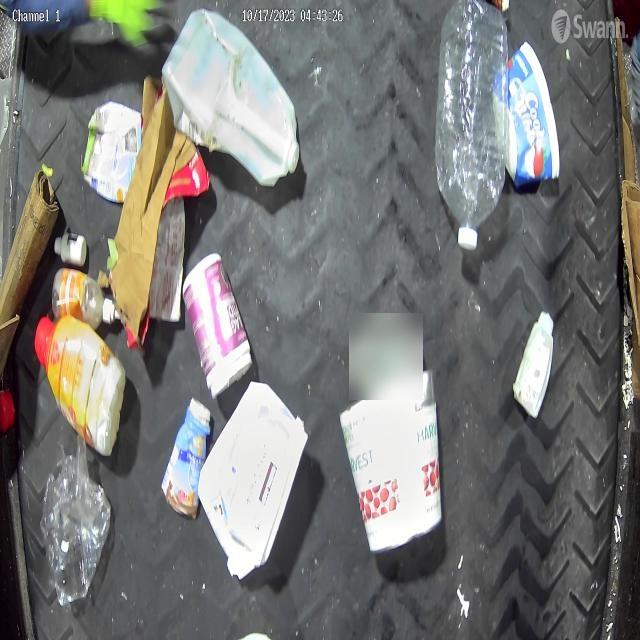milk_jug: (160, 7, 300, 185)
plastic_bottle: (436, 2, 509, 253)
